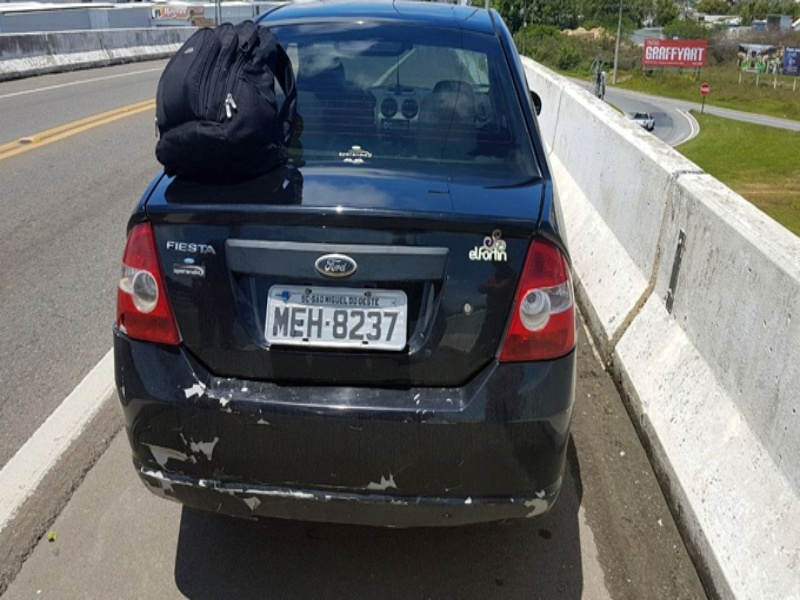placa: (262, 280, 411, 356)
